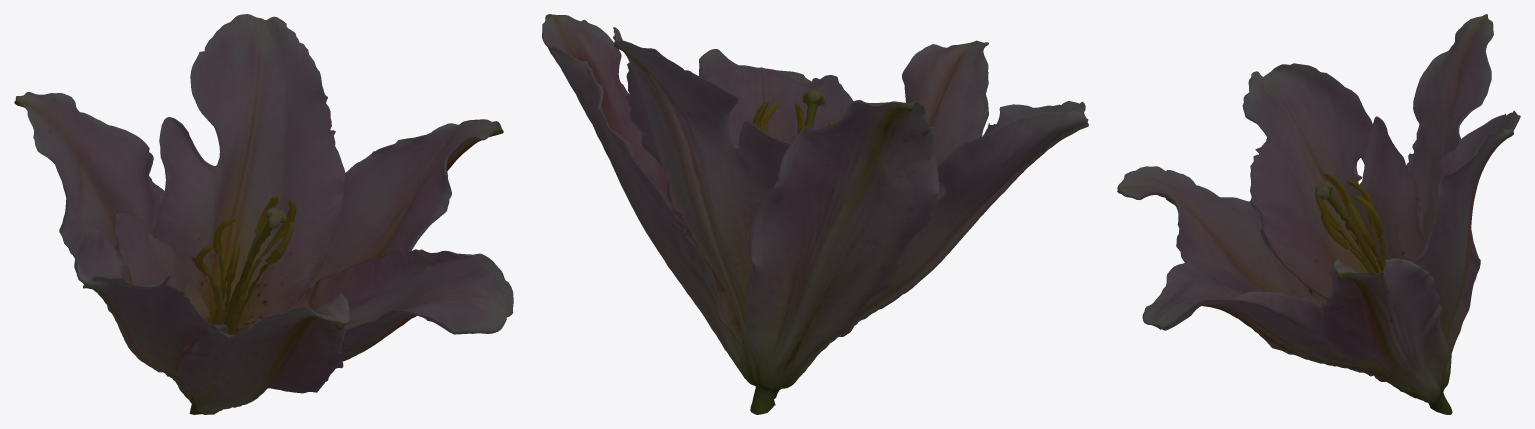
Rendered from lily_blossom.glb.
3 renders of one model, left to right at view 1: azimuth 30°, elevation 25°; view 2: azimuth 150°, elevation 25°; view 3: azimuth 270°, elevation 25°, orthographic. The views are drawn at different scales.
Visible parts, largest first — view 1: Lilie_Bluete.1001; view 2: Lilie_Bluete.1001; view 3: Lilie_Bluete.1001.
Part boxes in pixels (<box>): Lilie_Bluete.1001: <box>14,14,513,414</box>; Lilie_Bluete.1001: <box>542,14,1088,414</box>; Lilie_Bluete.1001: <box>1117,14,1520,414</box>.
Size of the model in its own units: 0.8663 by 0.6296 by 0.6904.
Materials: 1 (1 with a texture image).
